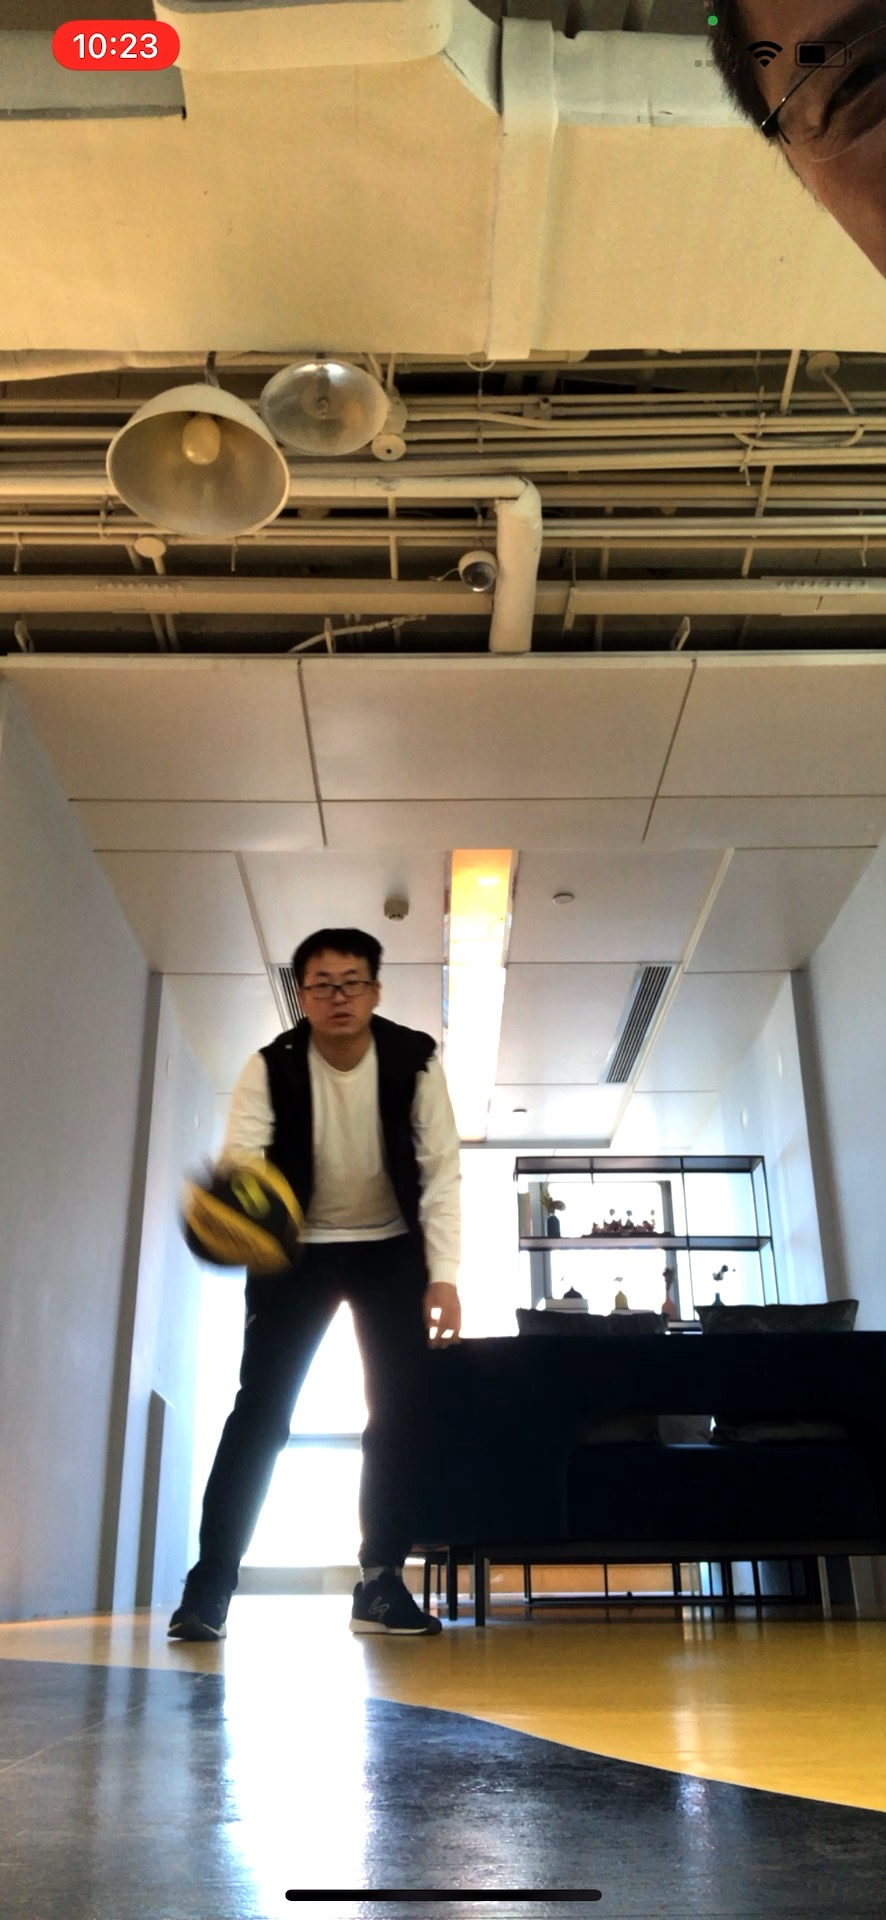ball: (182, 1155, 302, 1280)
